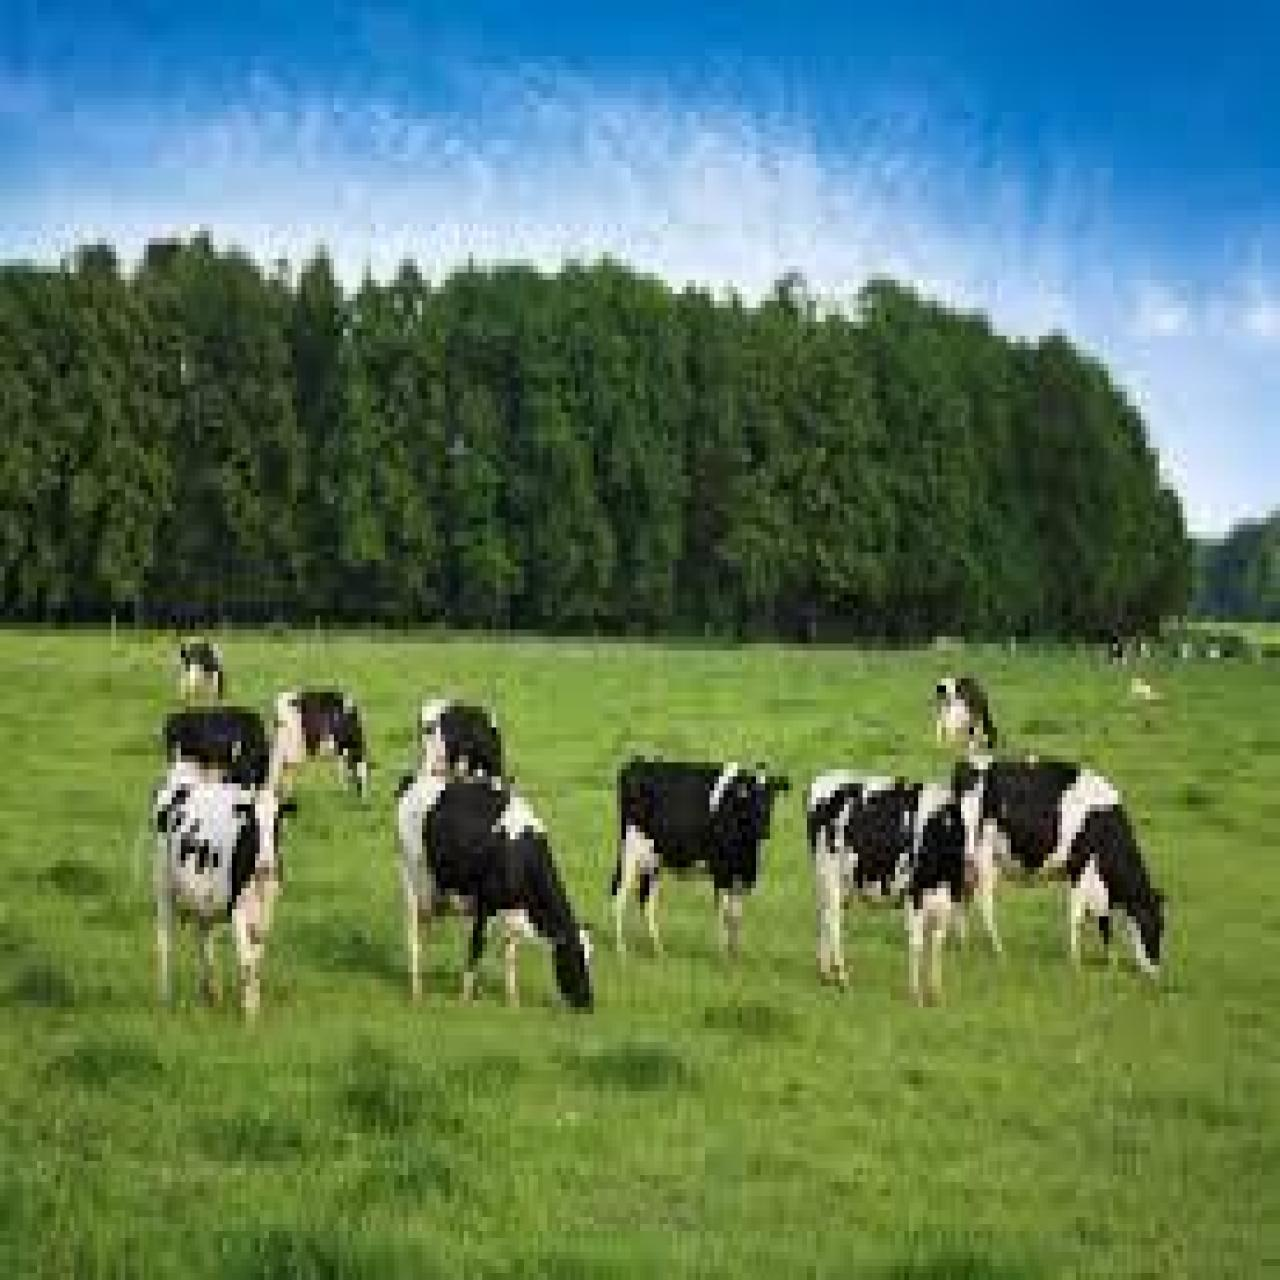cow: (392, 765, 605, 1017), (951, 753, 1169, 983), (803, 769, 993, 1008), (142, 763, 304, 1028), (606, 760, 796, 969), (263, 689, 377, 815), (159, 707, 275, 797), (417, 700, 505, 790), (932, 672, 1002, 756), (173, 629, 230, 707)
